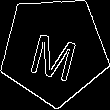M_N: (26, 20, 82, 81)
